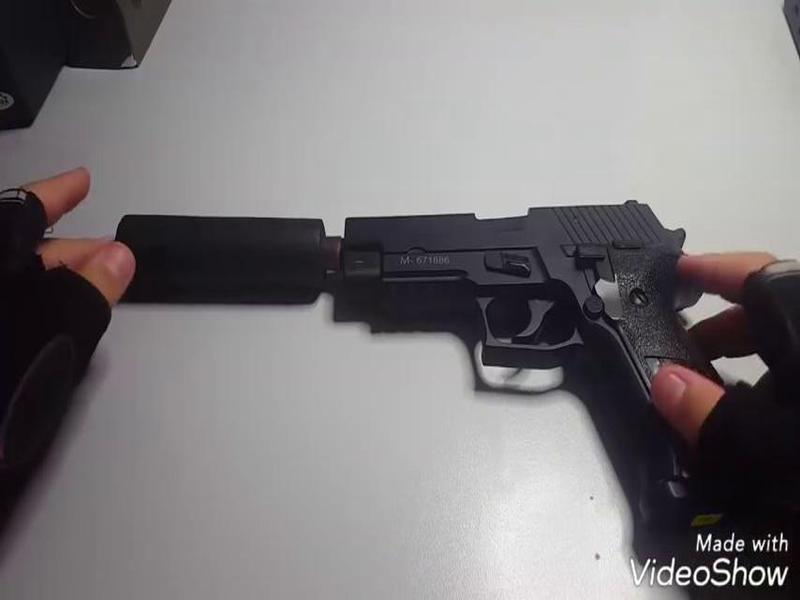Pistola: (339, 193, 740, 522)
